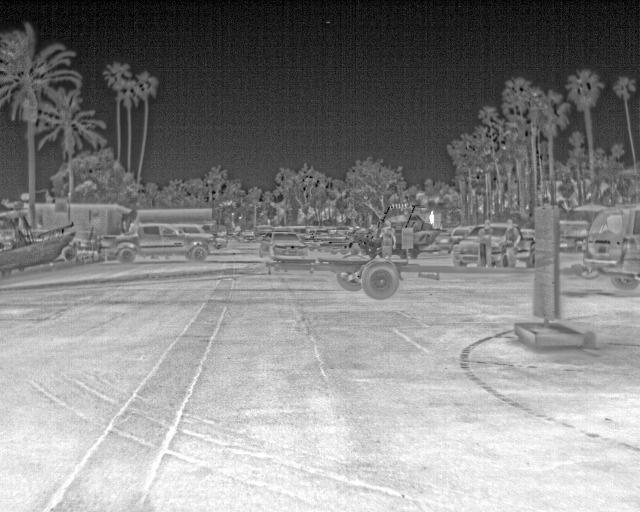bicycle: (579, 205, 639, 291), (100, 223, 213, 265), (258, 229, 310, 259), (452, 226, 478, 266), (559, 219, 589, 253), (168, 223, 216, 240), (491, 220, 505, 268)
empty: (377, 219, 398, 259), (506, 220, 522, 268), (477, 219, 492, 270)
